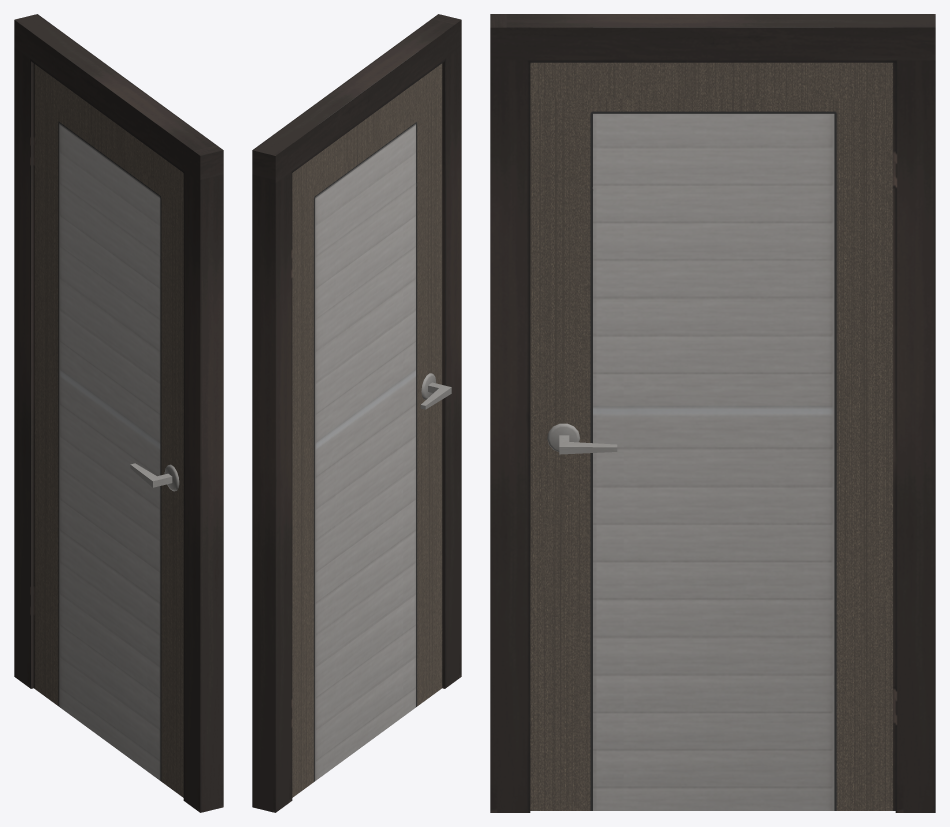
Rendered from Door_T01.FBX.
The picture shows the model from 3 angles, left to right: view 1: azimuth 30°, elevation 25°; view 2: azimuth 150°, elevation 25°; view 3: azimuth 270°, elevation 25°; orthographic projection. The views are drawn at different scales.
Parts seen in each view (by area): view 1: Door_T01, Door_T01a; view 2: Door_T01, Door_T01a; view 3: Door_T01, Door_T01a.
Boxes of the visible parts, box(x1,y1,x2,y2) form: Door_T01: box(33, 63, 183, 797); Door_T01a: box(14, 14, 223, 812); Door_T01: box(292, 63, 451, 797); Door_T01a: box(252, 14, 461, 812); Door_T01: box(530, 62, 895, 810); Door_T01a: box(490, 14, 935, 812).
Bounding box in the file's own units: 9.98 × 104 × 53.51.
